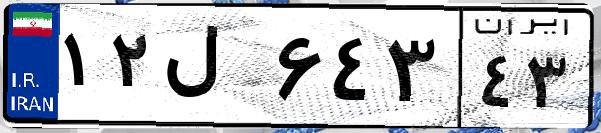1: (57, 26, 110, 100)
2: (110, 28, 158, 98)
3: (385, 28, 445, 110), (525, 38, 570, 115)
4: (330, 28, 385, 110), (475, 38, 525, 113)
6: (270, 28, 330, 110)
ل: (158, 20, 270, 120)
